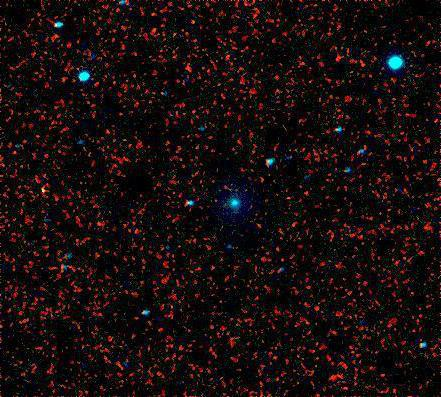star: (29, 176, 59, 206)
